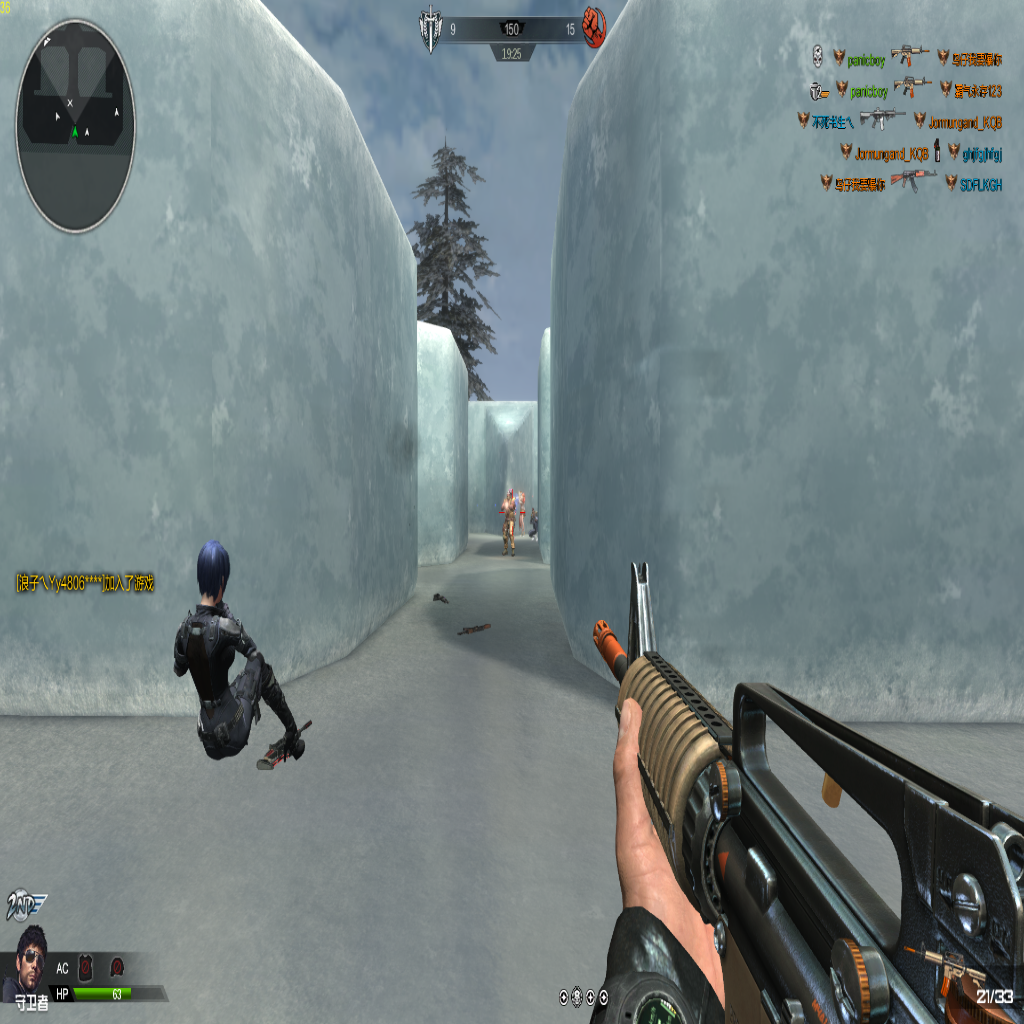tt: (500, 487, 516, 553), (530, 507, 538, 538)
